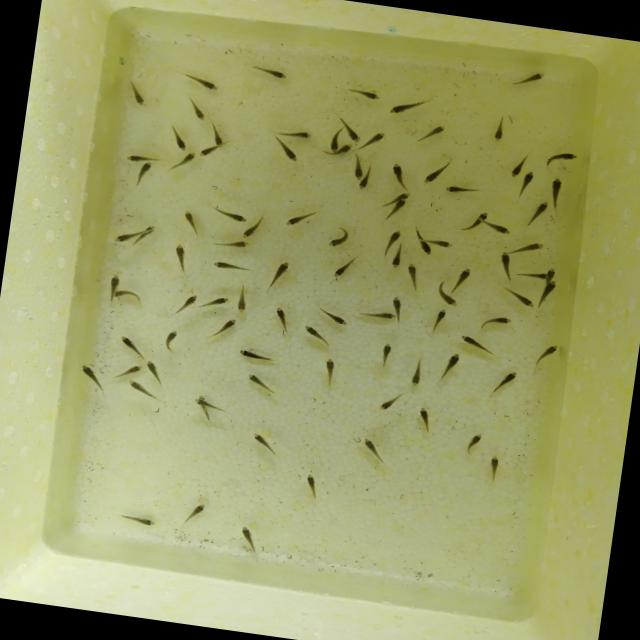fingerling: (246, 428, 286, 461), (384, 95, 428, 122), (262, 258, 293, 296), (493, 284, 538, 310), (456, 333, 498, 359), (488, 366, 520, 399), (123, 76, 154, 110), (454, 206, 488, 236), (412, 121, 448, 149), (284, 206, 322, 232), (183, 70, 224, 94), (491, 249, 518, 285), (359, 436, 391, 466), (530, 340, 562, 370), (234, 524, 263, 556), (478, 311, 515, 336), (209, 204, 251, 226), (298, 469, 325, 503), (443, 180, 484, 202), (244, 372, 280, 397), (542, 148, 578, 173), (523, 197, 550, 230), (235, 346, 277, 367), (312, 305, 350, 328), (78, 363, 108, 392), (331, 254, 360, 284), (438, 350, 464, 383), (169, 244, 194, 278), (180, 500, 210, 528), (208, 315, 238, 343), (272, 138, 303, 165), (412, 404, 438, 436), (210, 258, 256, 276), (421, 158, 446, 191), (117, 510, 158, 530), (323, 224, 352, 252), (178, 208, 205, 238), (115, 335, 147, 360), (510, 68, 546, 90), (298, 324, 330, 348), (252, 63, 290, 83), (205, 120, 230, 150), (546, 177, 568, 211), (377, 389, 406, 414), (268, 305, 292, 335), (166, 124, 190, 154), (426, 306, 448, 338), (402, 262, 424, 294), (132, 160, 156, 189), (515, 237, 548, 258), (198, 292, 232, 312), (232, 282, 252, 316), (388, 162, 412, 190), (279, 126, 316, 144), (482, 452, 502, 485), (320, 356, 340, 389), (125, 378, 156, 399), (346, 86, 382, 104), (214, 237, 252, 254), (356, 308, 398, 323), (116, 359, 146, 380), (347, 152, 368, 182), (184, 98, 209, 123), (170, 150, 196, 174), (432, 290, 462, 310), (508, 150, 528, 180), (324, 126, 344, 156), (452, 264, 475, 290), (158, 328, 180, 355), (490, 114, 508, 146), (175, 292, 198, 317), (409, 358, 426, 391), (518, 169, 538, 197), (142, 360, 164, 385), (108, 227, 134, 246), (362, 130, 388, 149), (484, 222, 514, 238), (378, 342, 394, 371), (389, 244, 406, 270), (115, 288, 143, 303), (467, 431, 484, 455), (540, 279, 560, 299), (386, 226, 404, 248), (344, 126, 364, 145), (239, 226, 260, 242), (122, 151, 146, 165), (139, 223, 157, 241), (416, 242, 435, 258), (392, 197, 408, 216), (432, 238, 456, 250), (200, 144, 218, 160), (108, 272, 122, 292), (390, 295, 405, 313), (338, 143, 357, 156), (544, 266, 558, 280), (192, 397, 208, 407), (357, 180, 369, 193)
